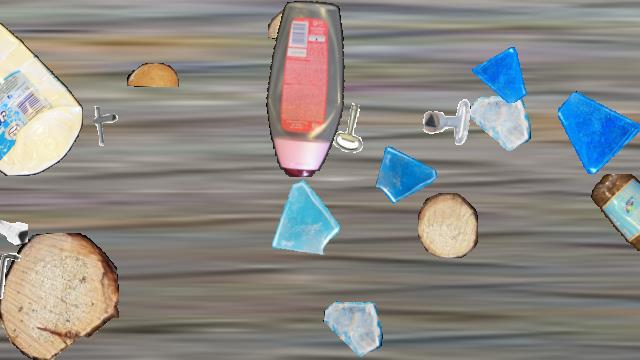glass: (558, 89, 640, 173), (261, 179, 341, 259), (373, 140, 439, 206), (470, 93, 530, 153), (323, 299, 383, 359), (472, 46, 528, 102)
metal: (325, 100, 381, 156), (422, 97, 474, 149), (0, 249, 37, 303), (81, 103, 125, 147), (0, 191, 28, 249)
plastic: (265, 1, 349, 177), (0, 1, 83, 175), (588, 174, 640, 272)
wood: (0, 233, 118, 359), (418, 193, 478, 257), (268, 9, 342, 41), (127, 63, 179, 87)
